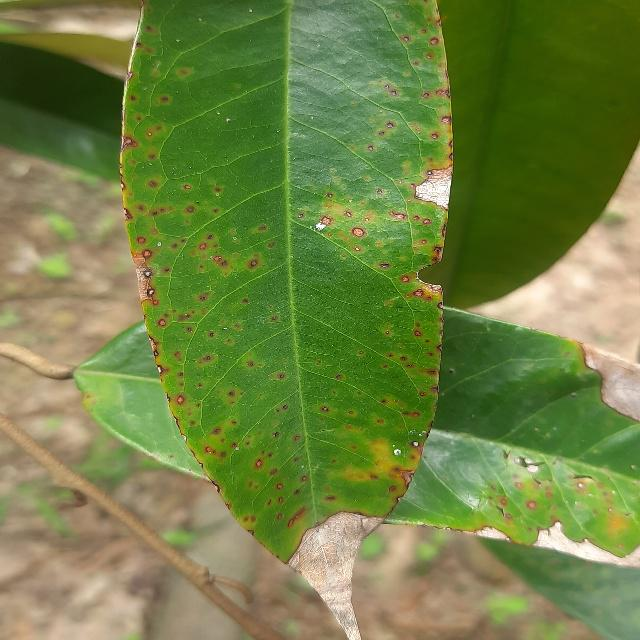Leaf Spot: (103, 0, 467, 639)
